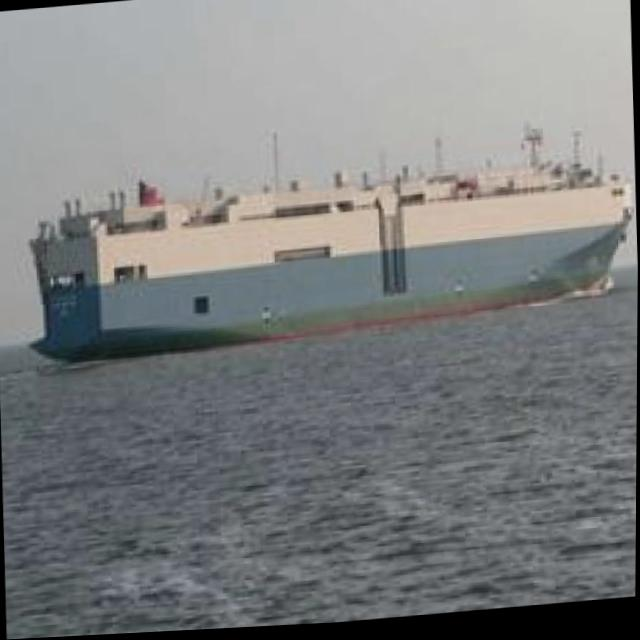ship2: (29, 127, 634, 365)
